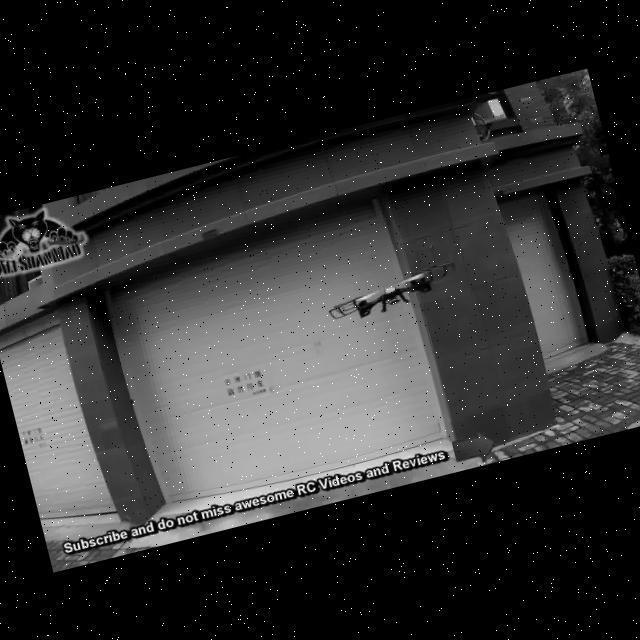Drons: (312, 252, 466, 334)
